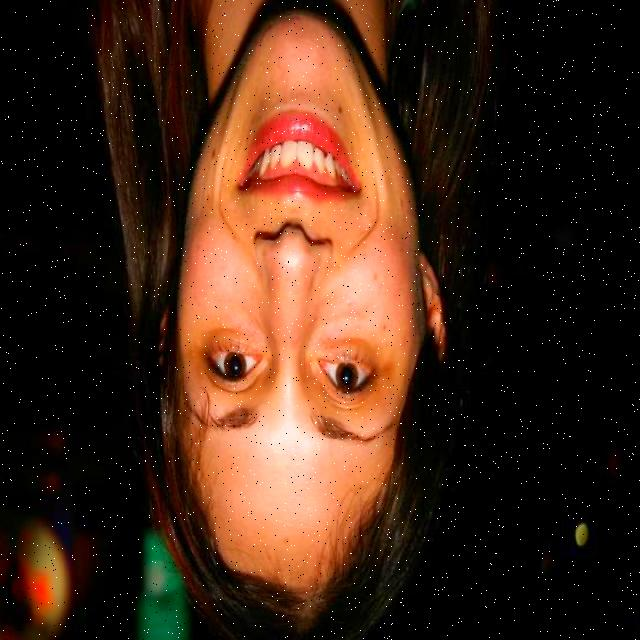puffy_eyes: (311, 319, 380, 368), (205, 313, 266, 355)
